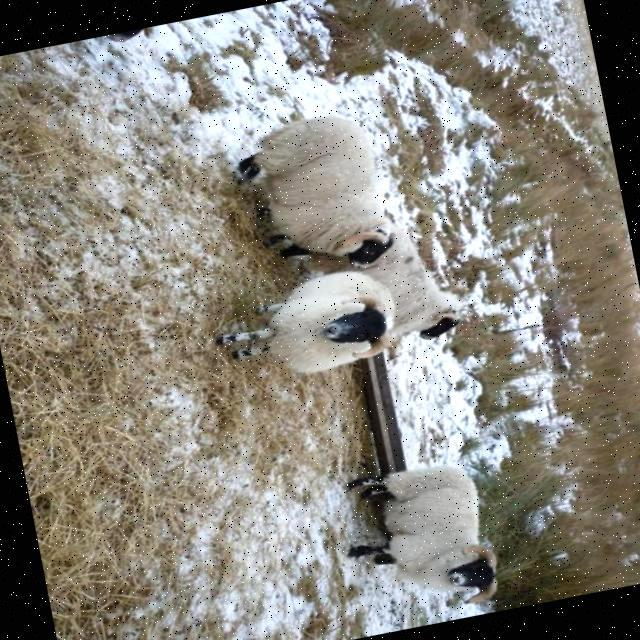sheep: (238, 115, 395, 265), (349, 468, 498, 604), (219, 272, 395, 374), (317, 234, 457, 340)
